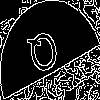Q: (25, 25, 64, 85)
